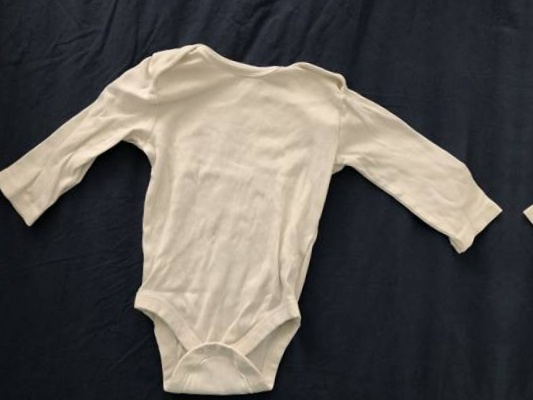Body: (0, 2, 519, 400), (504, 39, 533, 400)
